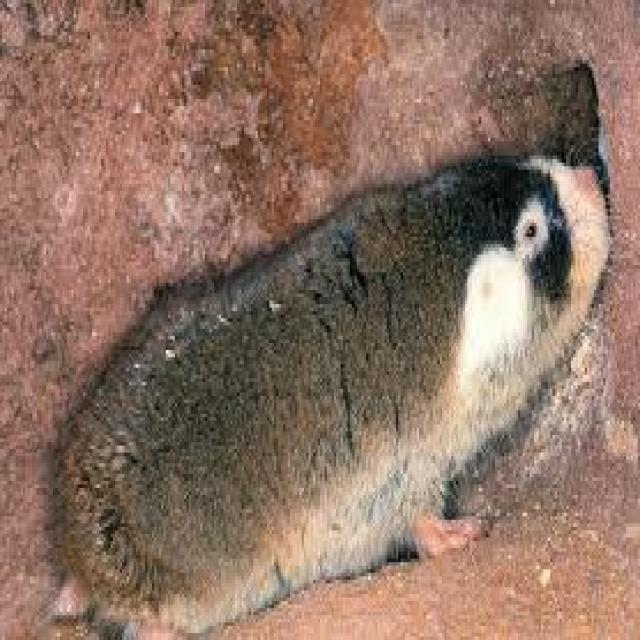Rat: (39, 78, 613, 594)
